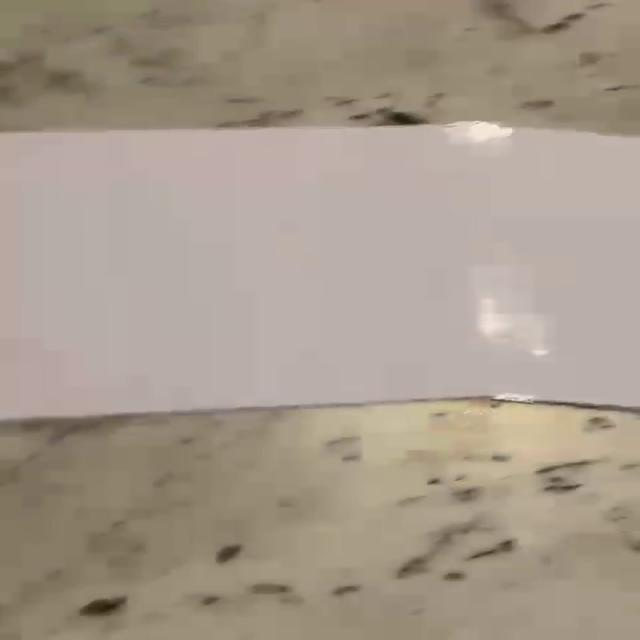road: (5, 122, 639, 419)
